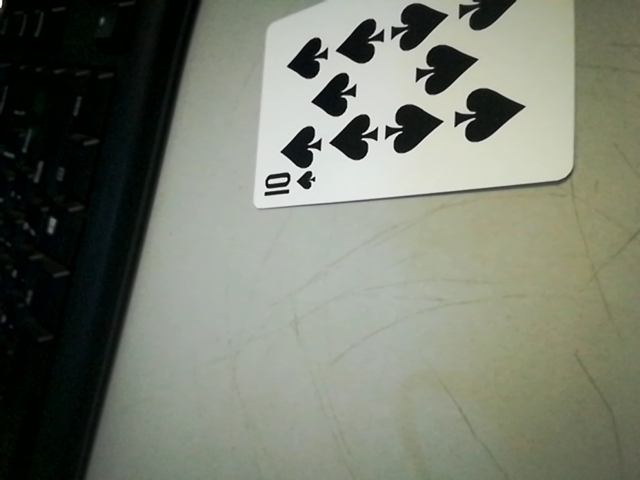ht 10: (253, 166, 322, 203)
